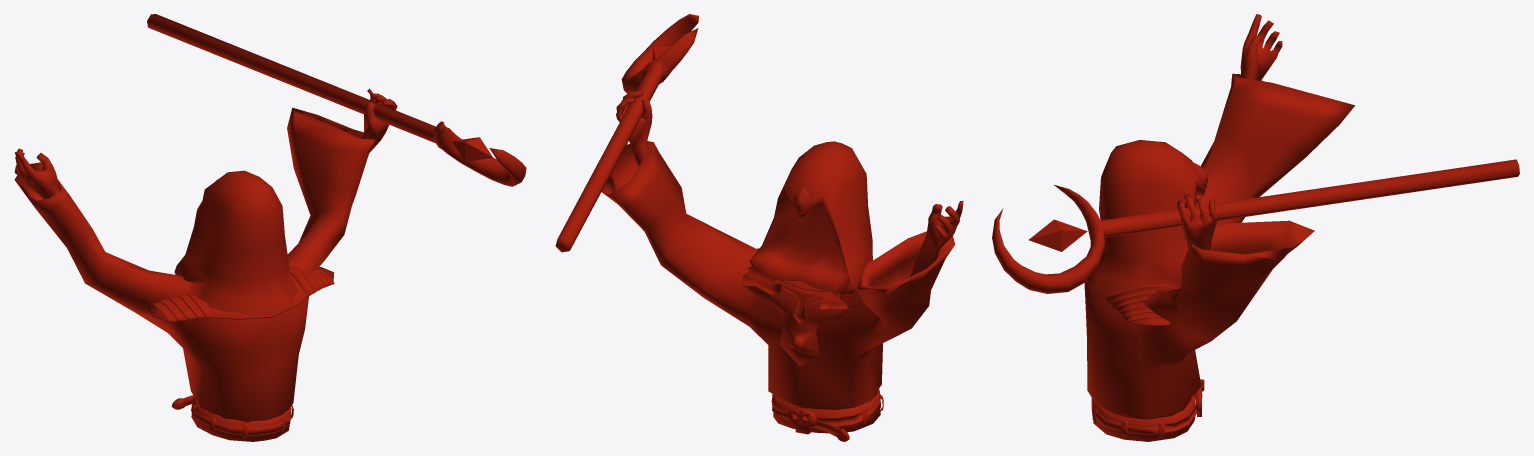
Rendered from top_000022.obj.
3 renders of one model, left to right at view 1: azimuth 30°, elevation 25°; view 2: azimuth 150°, elevation 25°; view 3: azimuth 270°, elevation 25°, orthographic. The views are drawn at different scales.
Parts seen in each view (by area): view 1: LowPoly_Warlock.000_Plane.005; view 2: LowPoly_Warlock.000_Plane.005; view 3: LowPoly_Warlock.000_Plane.005.
Boxes of the visible parts, <box> form: LowPoly_Warlock.000_Plane.005: <box>14,14,526,441</box>; LowPoly_Warlock.000_Plane.005: <box>555,14,963,441</box>; LowPoly_Warlock.000_Plane.005: <box>992,14,1519,441</box>.
Bounding box in the file's own units: 1.8 × 1.23 × 1.83.
